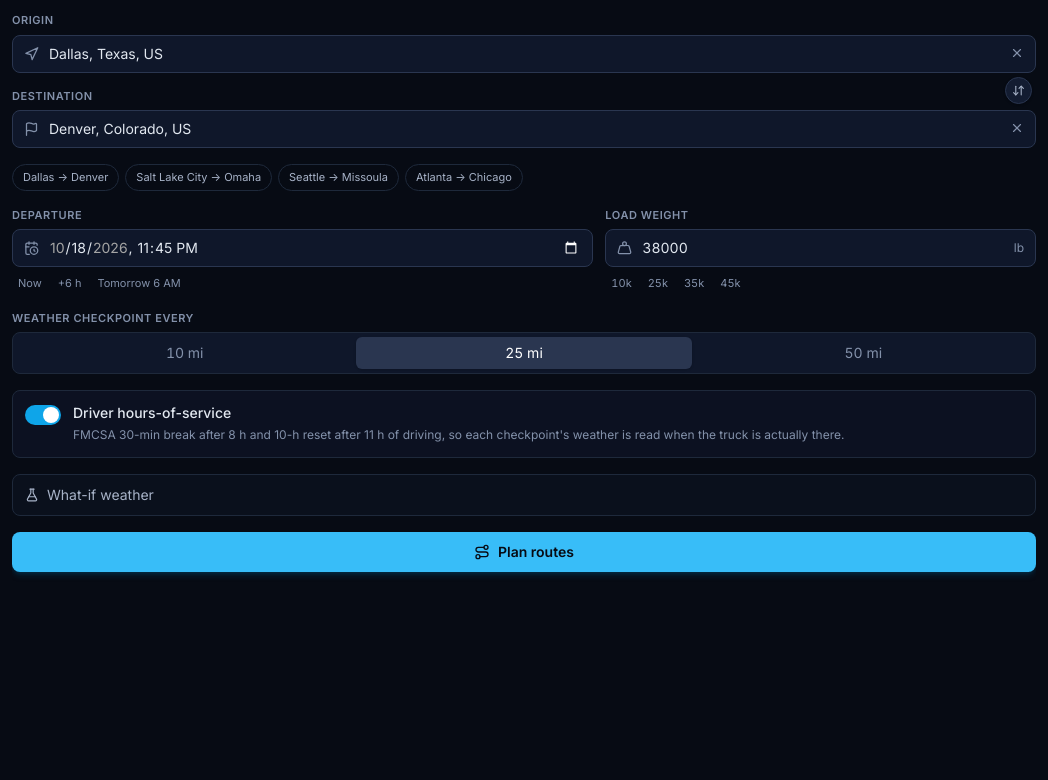
TripForm › swaps origin and destination
This screenshot has width=1048, height=780.
Click the button named "swap".
click(1018, 90)  # box 1005,76 -> 1032,104
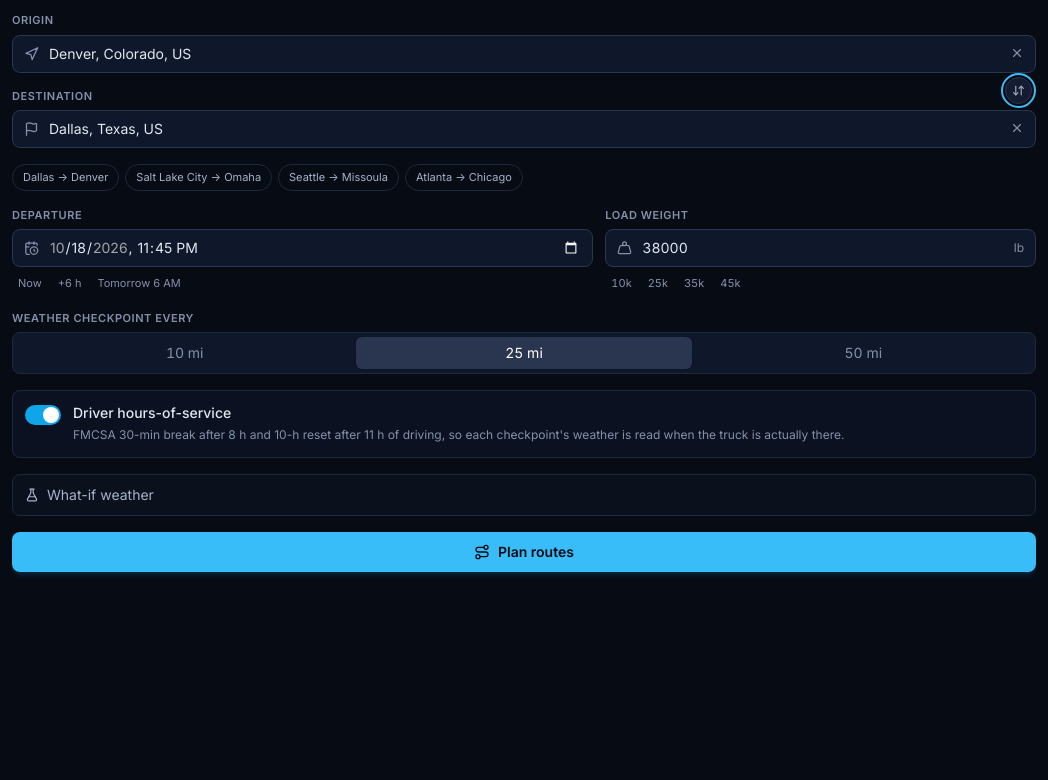
expect the dropdown labelled "Origin" holds "Denver, Colorado, US": met, box 12,34 -> 1036,72
